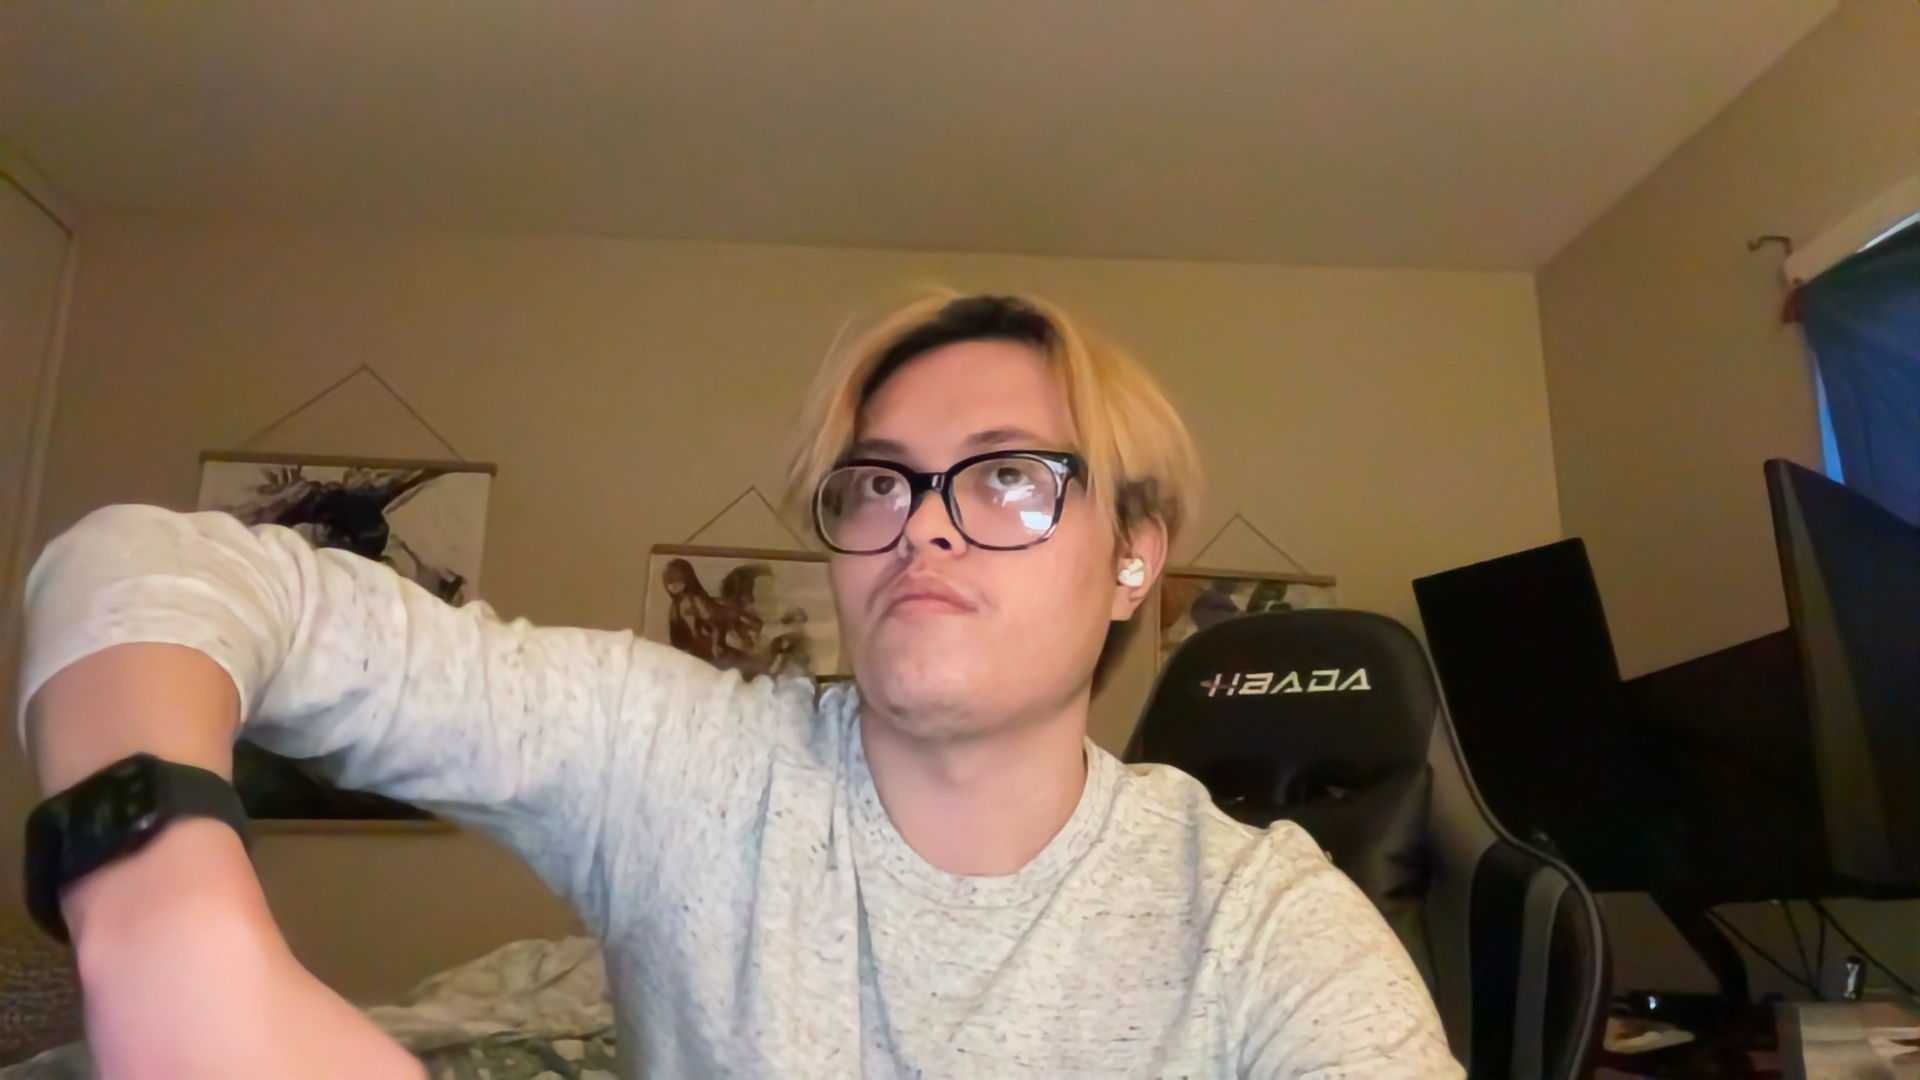watch: (18, 765, 260, 963)
